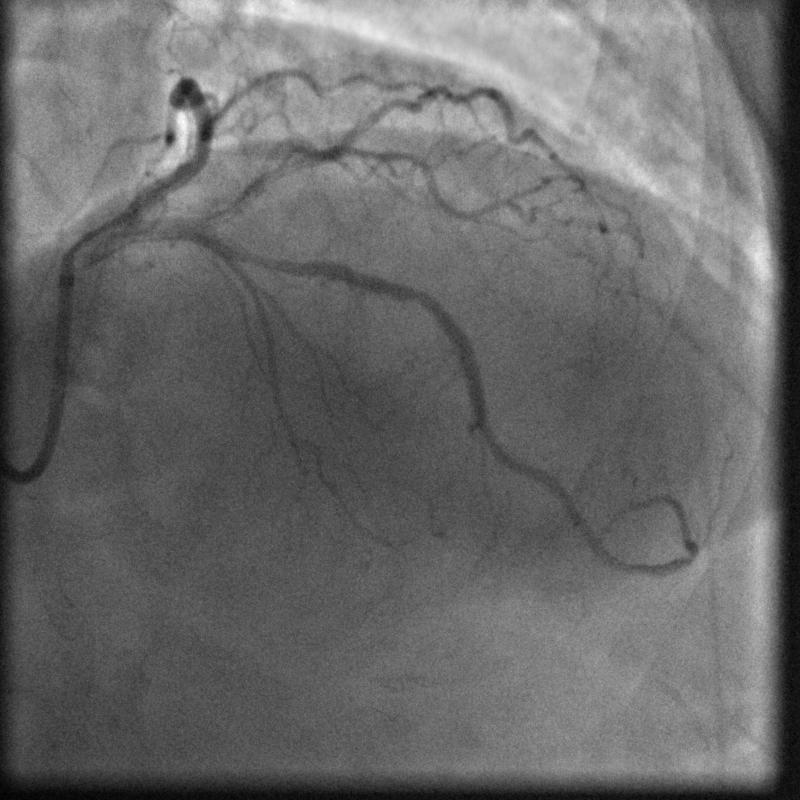Stenosis: (234, 237, 304, 280)
